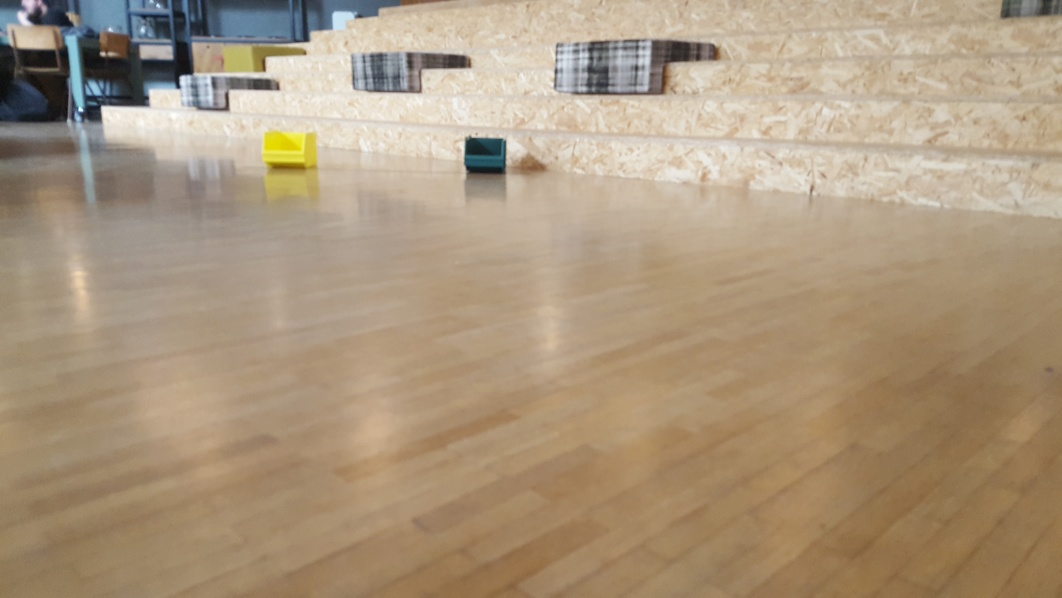tray: (260, 128, 321, 172), (463, 135, 507, 173)
